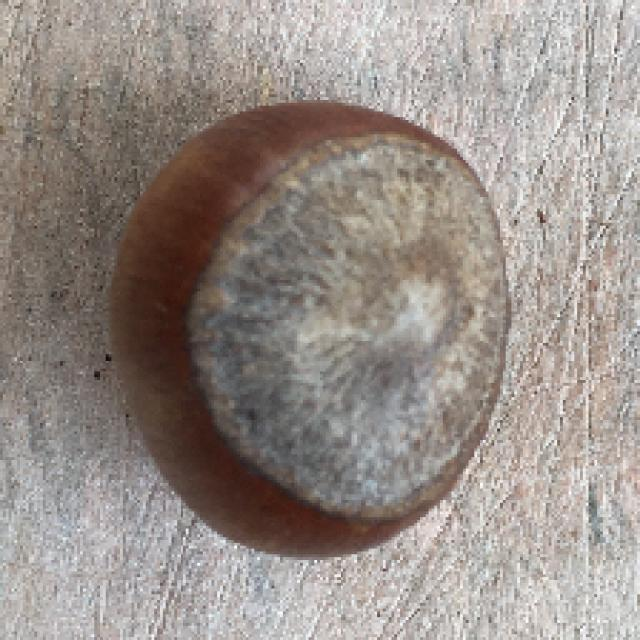DamagedHazelnut: (110, 99, 507, 556)
